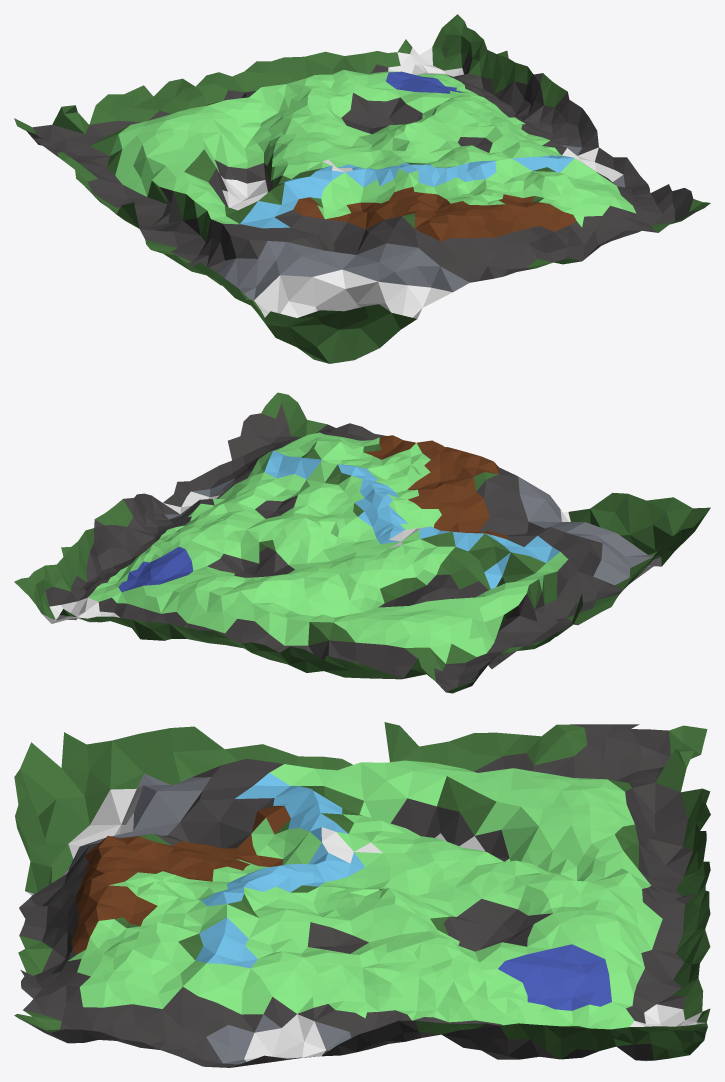
Rendered from Lowpolyterrain.fbx.
The picture shows the model from 3 angles, top to bottom: view 1: azimuth 30°, elevation 25°; view 2: azimuth 150°, elevation 25°; view 3: azimuth 270°, elevation 25°; orthographic projection. The views are drawn at different scales.
Parts seen in each view (by area): view 1: Plane; view 2: Plane; view 3: Plane.
Boxes of the visible parts, x1,y1,x2,y2 form: Plane: (14, 14, 710, 363); Plane: (14, 392, 710, 693); Plane: (14, 722, 710, 1067).
Bounding box in the file's own units: 2019 × 444 × 1999.
